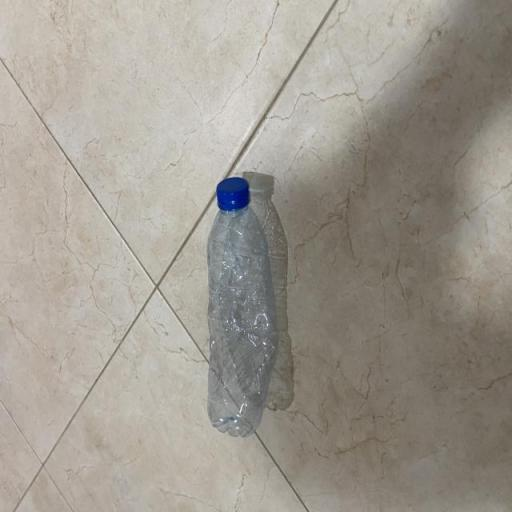plastic: (206, 174, 280, 438)
